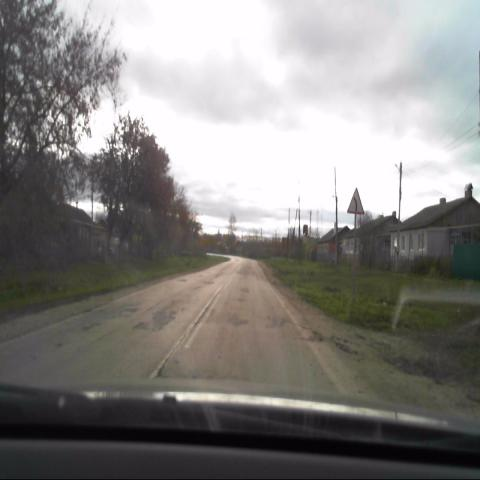1_11_1: (345, 187, 365, 215)
